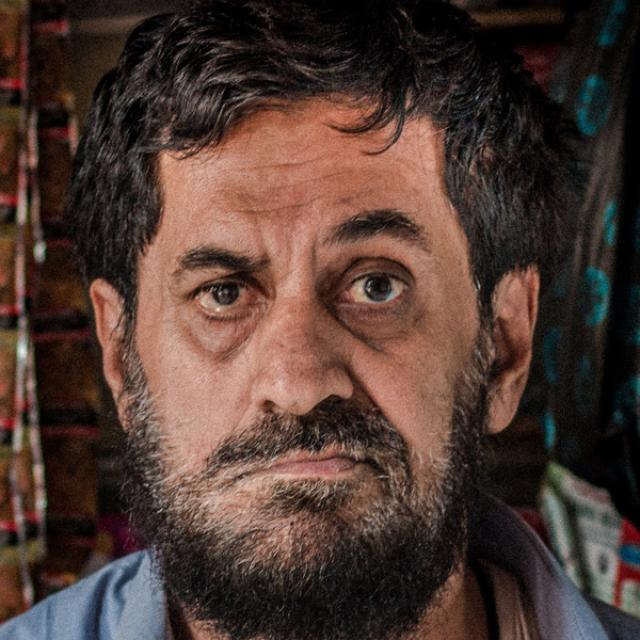face: (87, 39, 568, 620)
